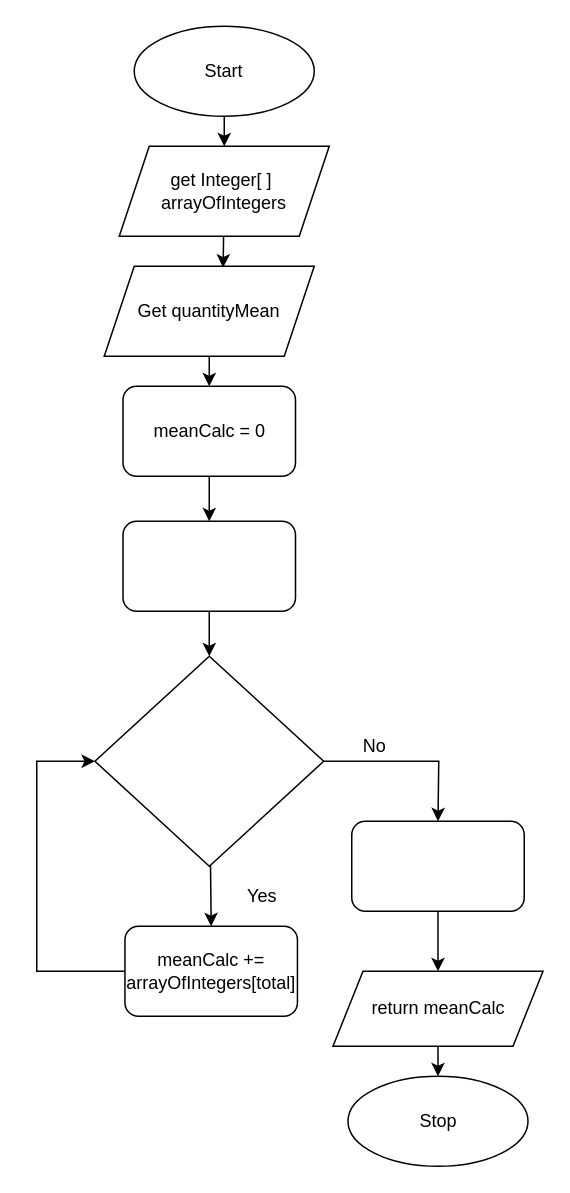
Image size: 570x1193. Some labels were removed from this diagram. Each missing label, with the centre of its shape:
calcMean = 0: the point at 209,565
calcMean = meanCalc / quantityMean: the point at 437,865
for (int total = 0; total < quantityMean; total++: the point at 208,760
